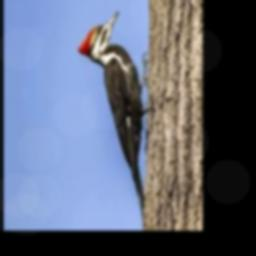Woodpecker: (77, 9, 149, 223)
